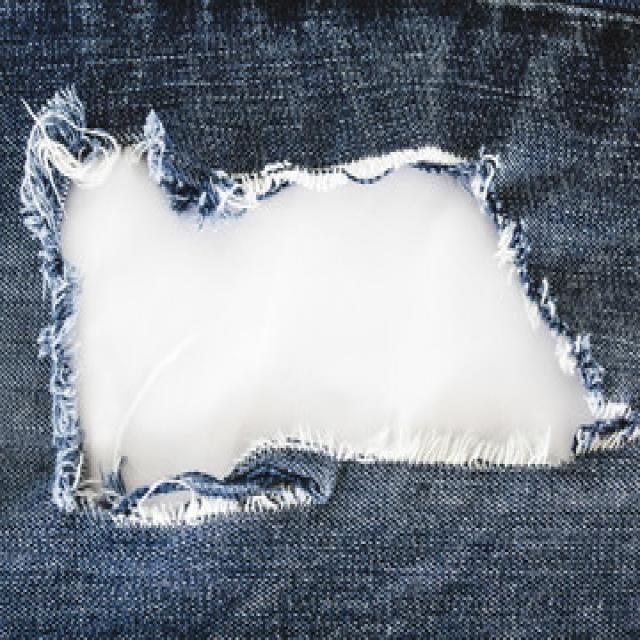Hole: (21, 89, 592, 526)
